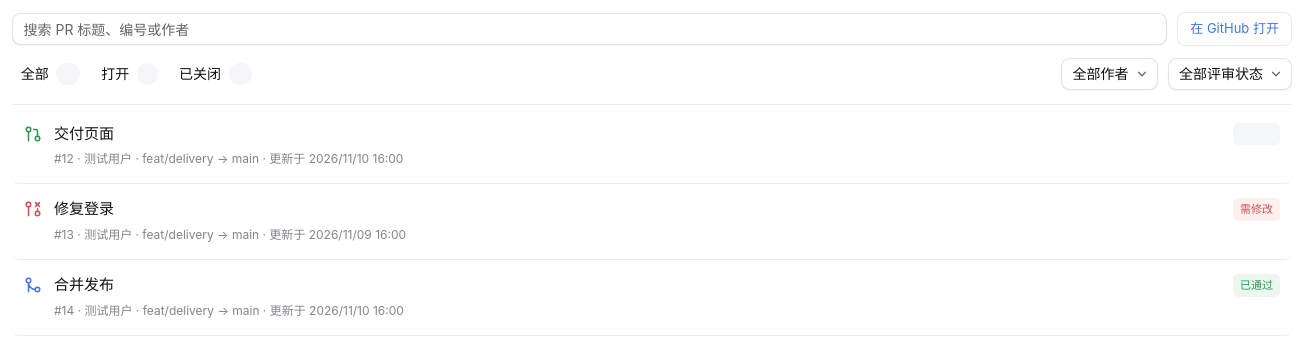
Test: prs-page › 默认请求全部状态并对单个仓库隐藏仓库选择器
This screenshot has width=1304, height=353.
Expected: the button "交付页面" is shown, [54,122,114,145]
Click the button "已关闭 2": (215, 74) [170,62,261,86]
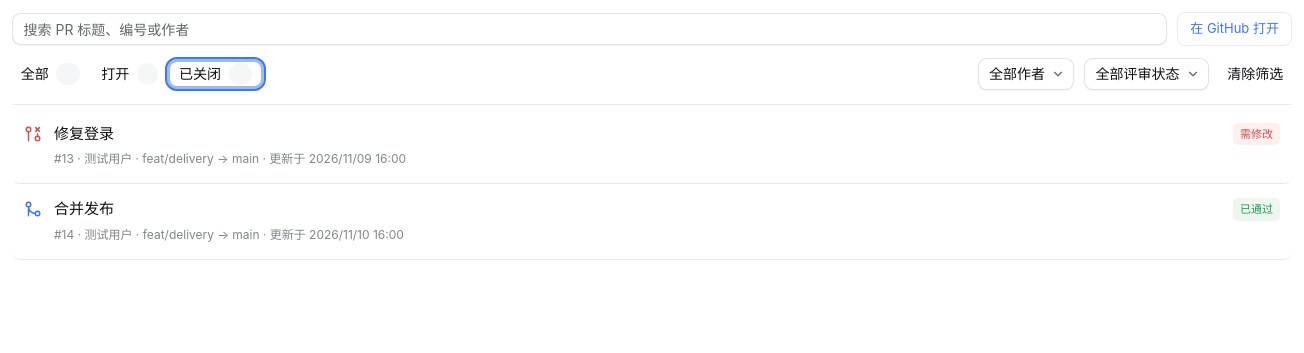
Expected: the button "修复登录" is shown, [54,122,114,145]
Result: the button "交付页面" is gone
Click the button "打开 1": (129, 74) [92,62,166,86]
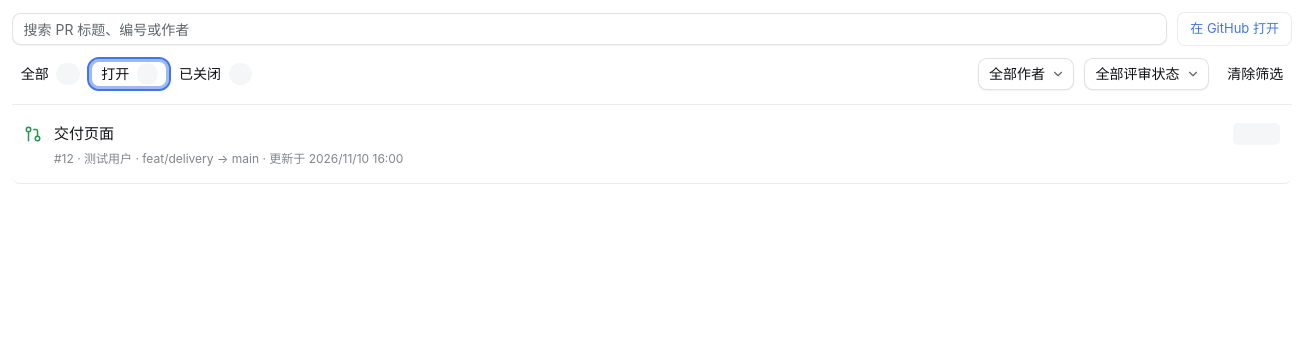
Result: the button "交付页面" is shown at [54,122,114,145]
Result: the button "修复登录" is gone
